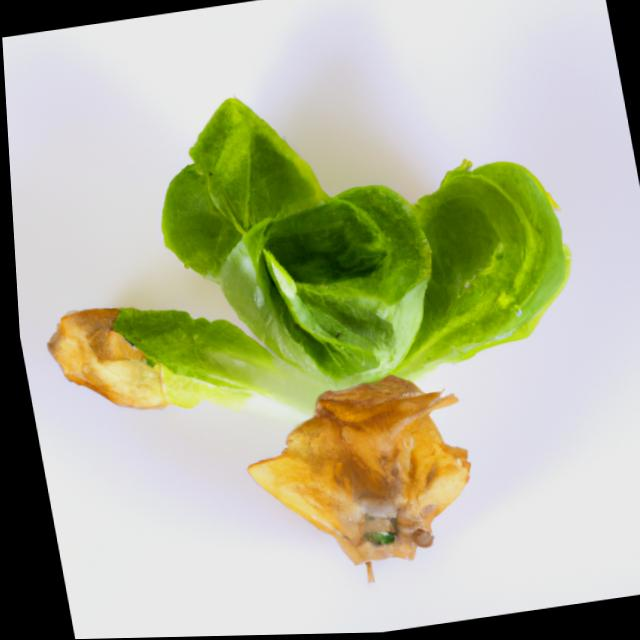-K: (3, 40, 632, 630)
